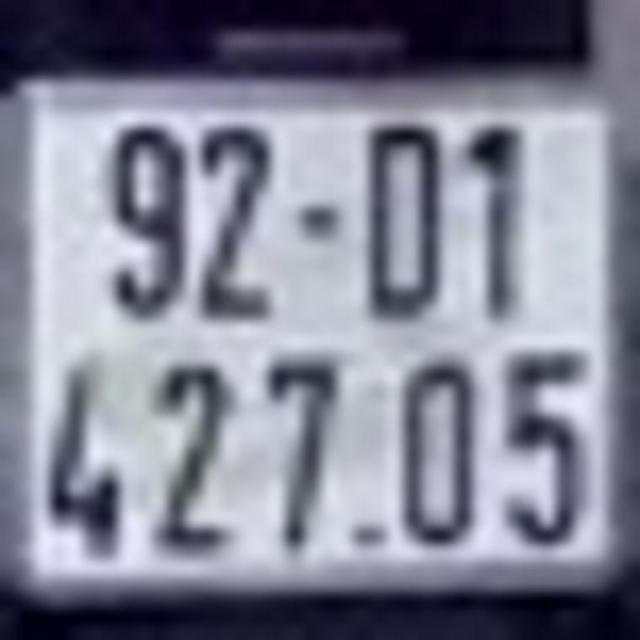0: (392, 350, 483, 548)
1: (463, 119, 532, 324)
2: (148, 353, 238, 553), (197, 120, 277, 327)
4: (38, 345, 132, 560)
5: (500, 339, 595, 546)
7: (261, 352, 341, 546)
9: (106, 118, 191, 316)
D: (352, 120, 445, 320)
